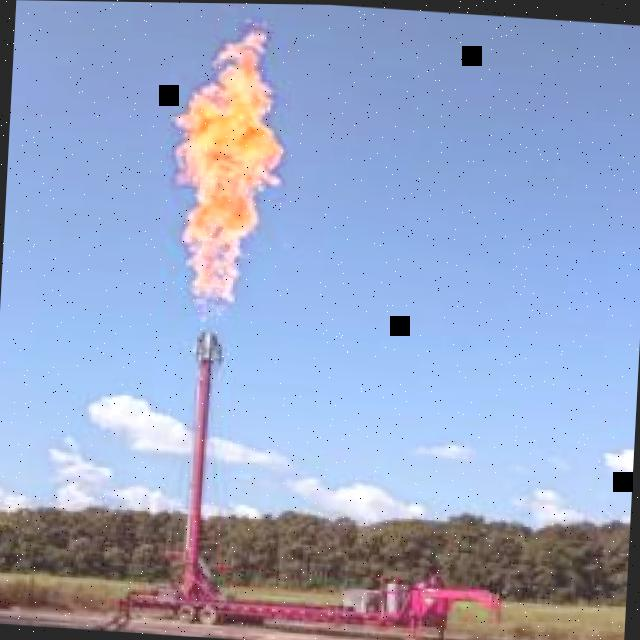fire: (174, 24, 286, 321)
